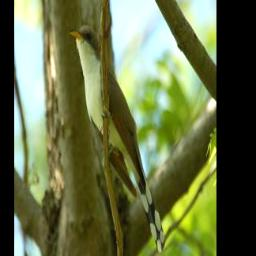Cuckoo: (70, 24, 164, 251)
